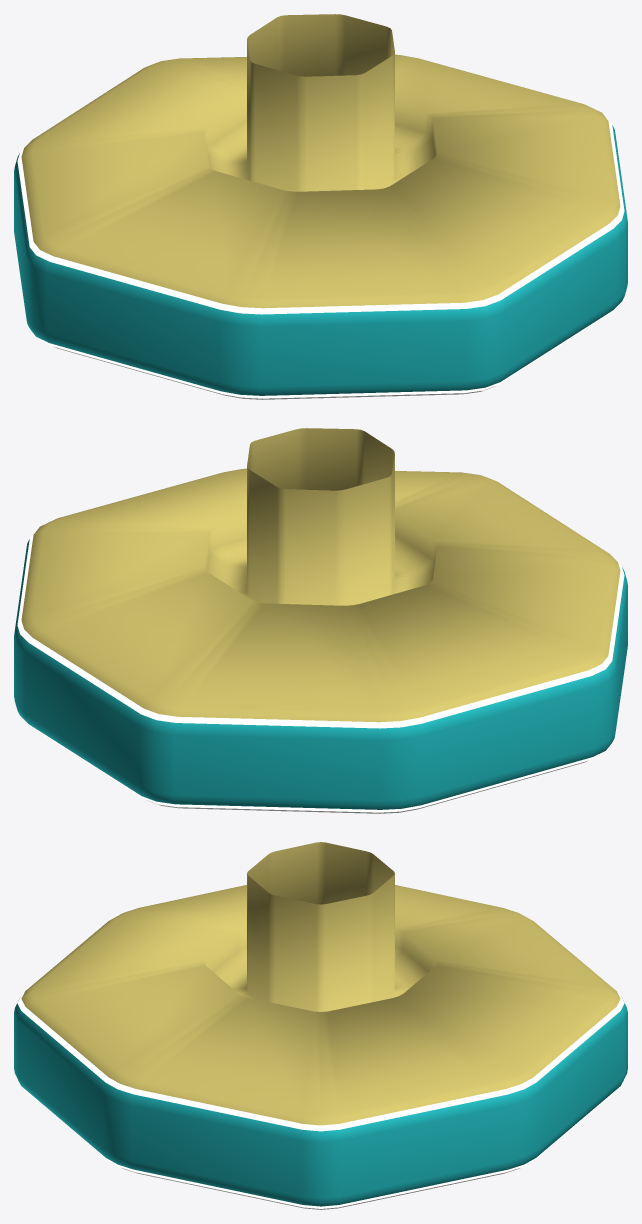
File: a-vr-enviro-1.glb
3 views of the same model, one above another, from view 1: azimuth 30°, elevation 25°; view 2: azimuth 150°, elevation 25°; view 3: azimuth 270°, elevation 25° (orthographic). The views are drawn at different scales.
Parts seen in each view (by area): view 1: SM_Environment_01; view 2: SM_Environment_01; view 3: SM_Environment_01.
Part boxes in pixels (x1,y1,x2,y2): SM_Environment_01: (14, 14, 627, 399); SM_Environment_01: (14, 428, 627, 813); SM_Environment_01: (14, 842, 627, 1209).
Size of the model in its own units: 52.61 by 22.92 by 52.61.
